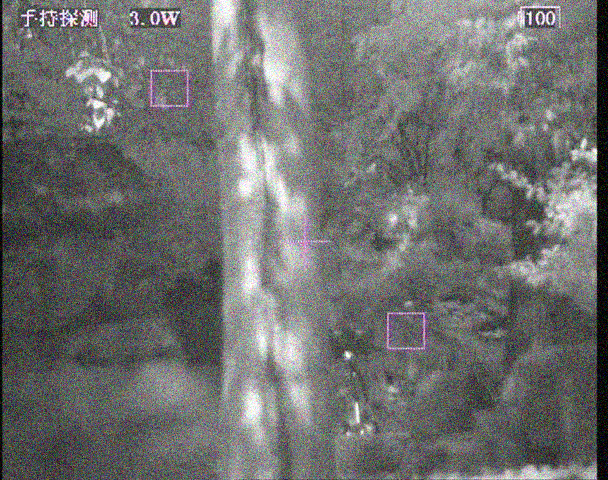my: (343, 351, 353, 361)
